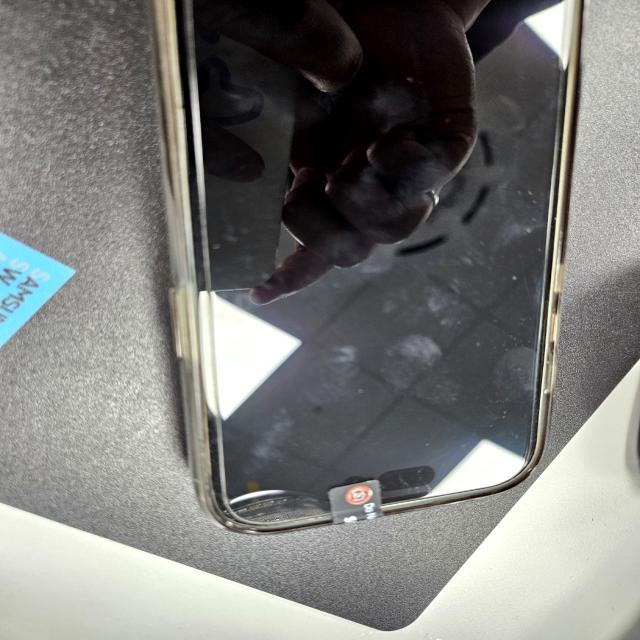phone: (155, 0, 580, 521)
sticker: (319, 476, 383, 524)
